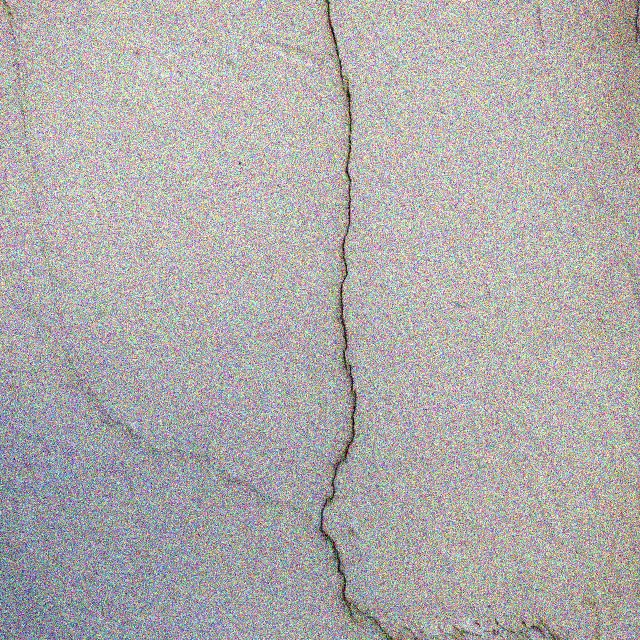SurfaceCrack: (267, 0, 426, 639)
